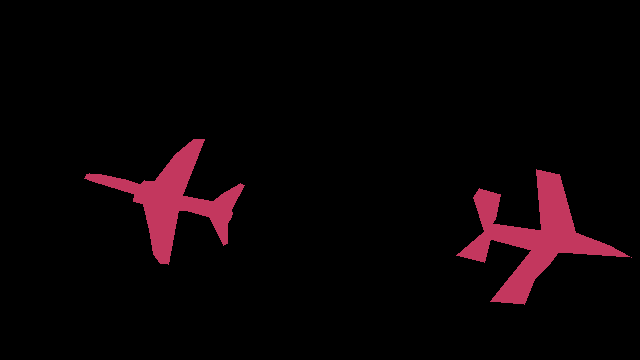Airplane: (456, 169, 631, 304), (84, 139, 244, 265)
